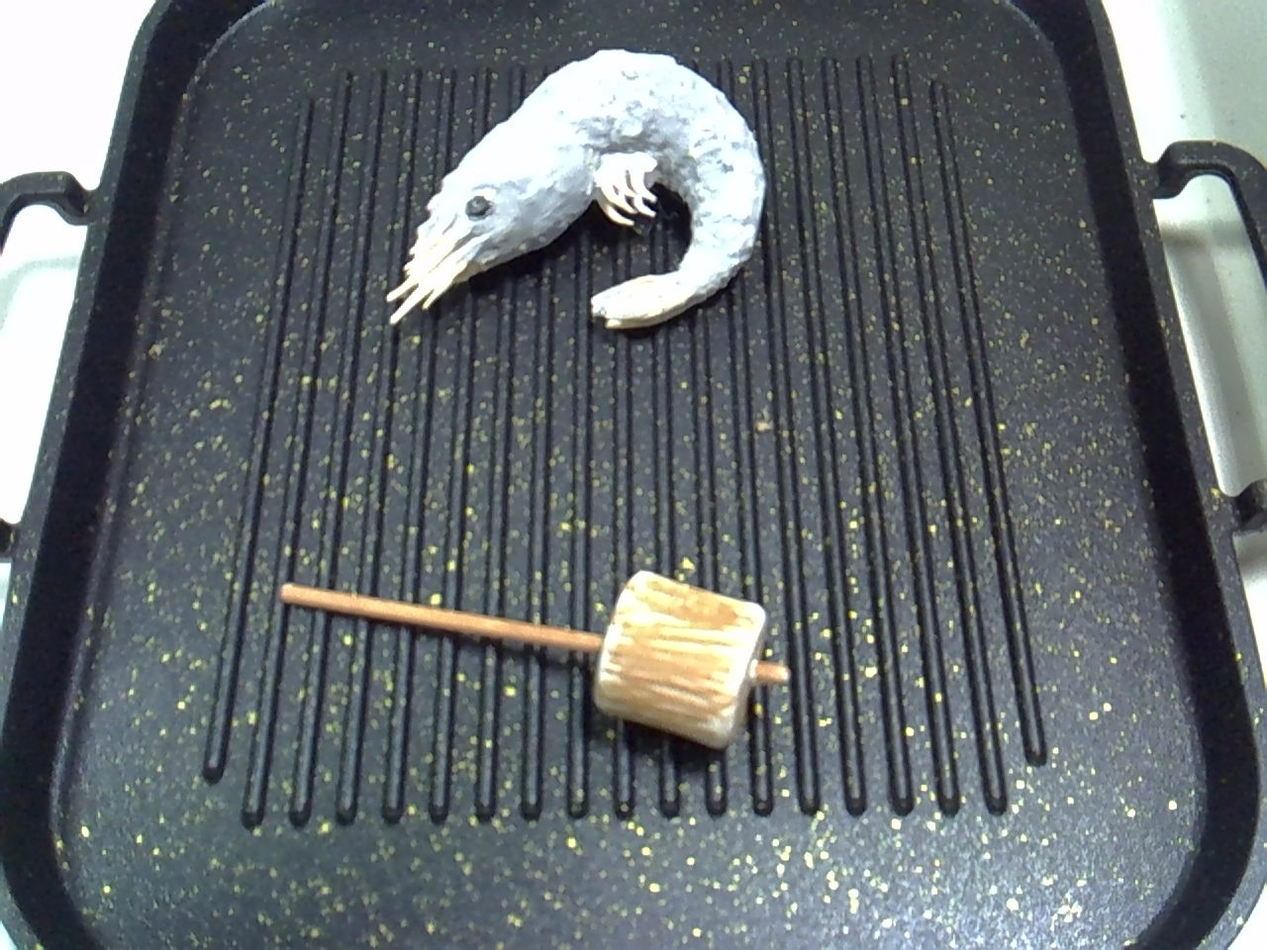marshmallow_cooked: (225, 518, 829, 785)
shrimp_raw: (348, 44, 788, 356)
